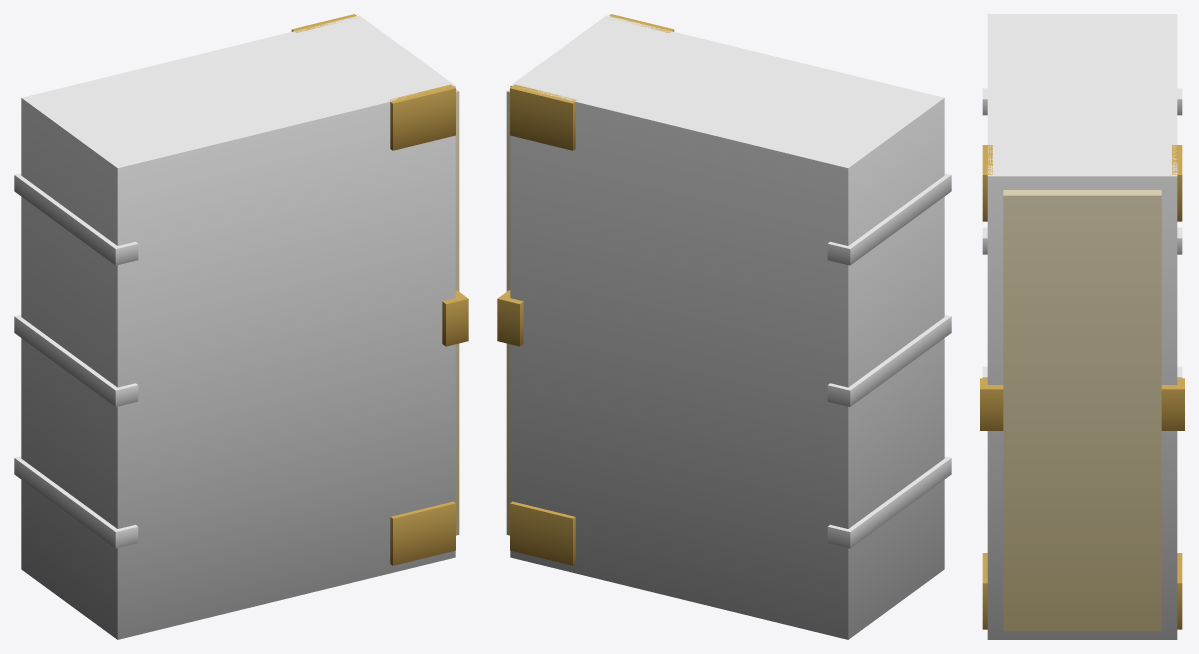
File: cave_book.glb
The picture shows the model from 3 angles, left to right: view 1: azimuth 30°, elevation 25°; view 2: azimuth 150°, elevation 25°; view 3: azimuth 270°, elevation 25°; orthographic projection.
Parts seen in each view (by area): view 1: cave_book, cave_book_trim; view 2: cave_book, cave_book_trim; view 3: cave_book_trim, cave_book.
Boxes of the visible parts, x1,y1,x2,y2 form: cave_book: [14, 15, 455, 639]; cave_book_trim: [291, 14, 468, 565]; cave_book: [510, 15, 951, 639]; cave_book_trim: [497, 14, 674, 565]; cave_book_trim: [980, 145, 1184, 631]; cave_book: [982, 14, 1182, 639].
Size of the model in its own units: 0.785 by 1 by 0.4.
